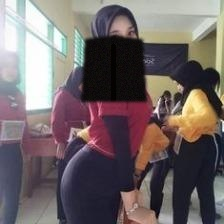Cadar_Niqab: (81, 3, 146, 101)
